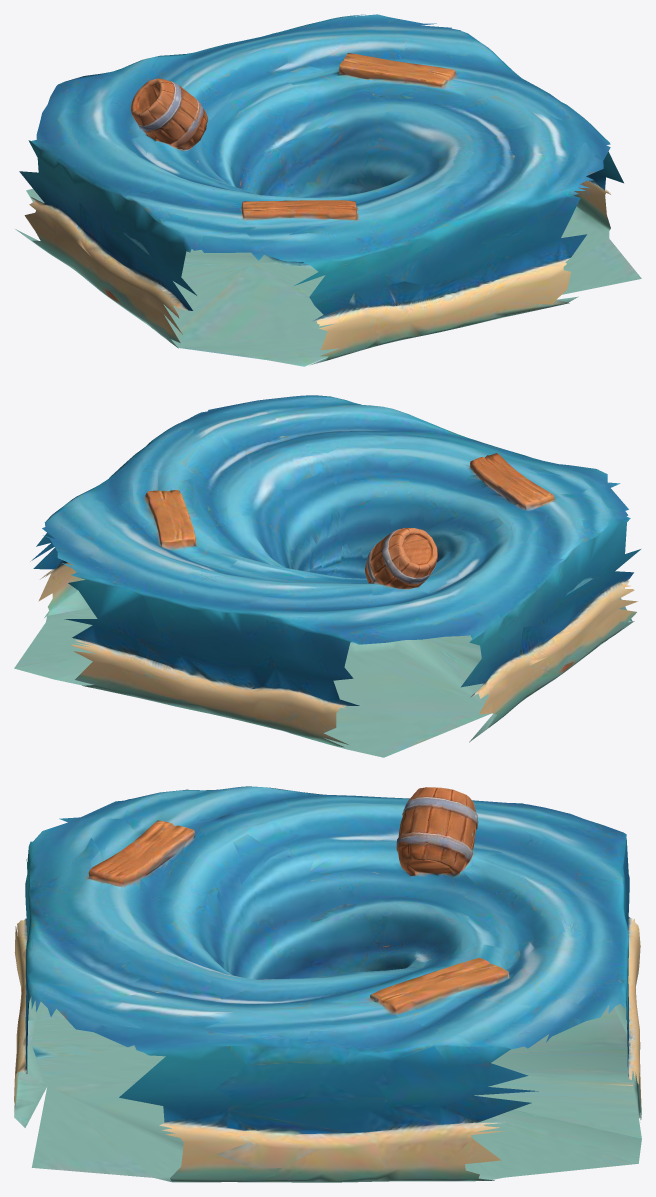
Rendered from m_whirlpool_animated.glb.
3 views of the same model, one above another, from view 1: azimuth 30°, elevation 25°; view 2: azimuth 150°, elevation 25°; view 3: azimuth 270°, elevation 25° (orthographic). The views are drawn at different scales.
Visible parts, largest first — view 1: m_whirlpool_Living_Scenery; view 2: m_whirlpool_Living_Scenery; view 3: m_whirlpool_Living_Scenery.
Part boxes in pixels (x1=…): m_whirlpool_Living_Scenery: x1=15, y1=14, x2=641, y2=366; m_whirlpool_Living_Scenery: x1=14, y1=395, x2=640, y2=757; m_whirlpool_Living_Scenery: x1=14, y1=786, x2=641, y2=1182.
Size of the model in its own units: 0.8096 by 0.2655 by 0.7955.
Materials: 1 (1 with a texture image).
